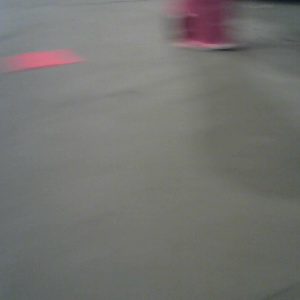right: (165, 1, 252, 52)
